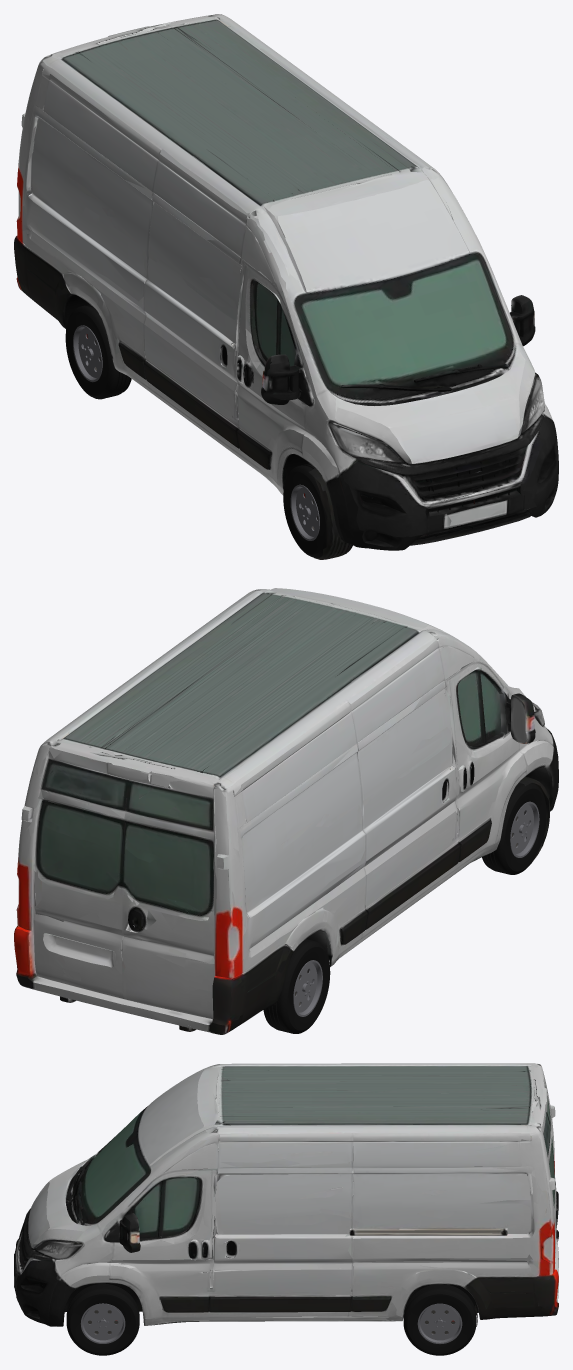
Rendered from transporter.glb.
3 views of the same model, one above another, from view 1: azimuth 30°, elevation 25°; view 2: azimuth 150°, elevation 25°; view 3: azimuth 270°, elevation 25° (orthographic). The views are drawn at different scales.
Parts seen in each view (by area): view 1: karosserie, rad_hr, rad_vr; view 2: karosserie, rad_hr, rad_vr; view 3: karosserie, rad_vl, rad_hl.
Boxes of the visible parts, x1=… form: karosserie: x1=14, y1=14, x2=558, y2=559; rad_hr: x1=65, y1=304, x2=131, y2=399; rad_vr: x1=283, y1=463, x2=327, y2=557; karosserie: x1=14, y1=588, x2=558, y2=1034; rad_hr: x1=263, y1=939, x2=330, y2=1033; rad_vr: x1=482, y1=783, x2=546, y2=874; karosserie: x1=14, y1=1063, x2=558, y2=1326; rad_vl: x1=66, y1=1283, x2=139, y2=1355; rad_hl: x1=403, y1=1284, x2=476, y2=1355.
Size of the model in its own units: 2.64 by 2.7 by 5.99.
Materials: 3 (1 with a texture image).
